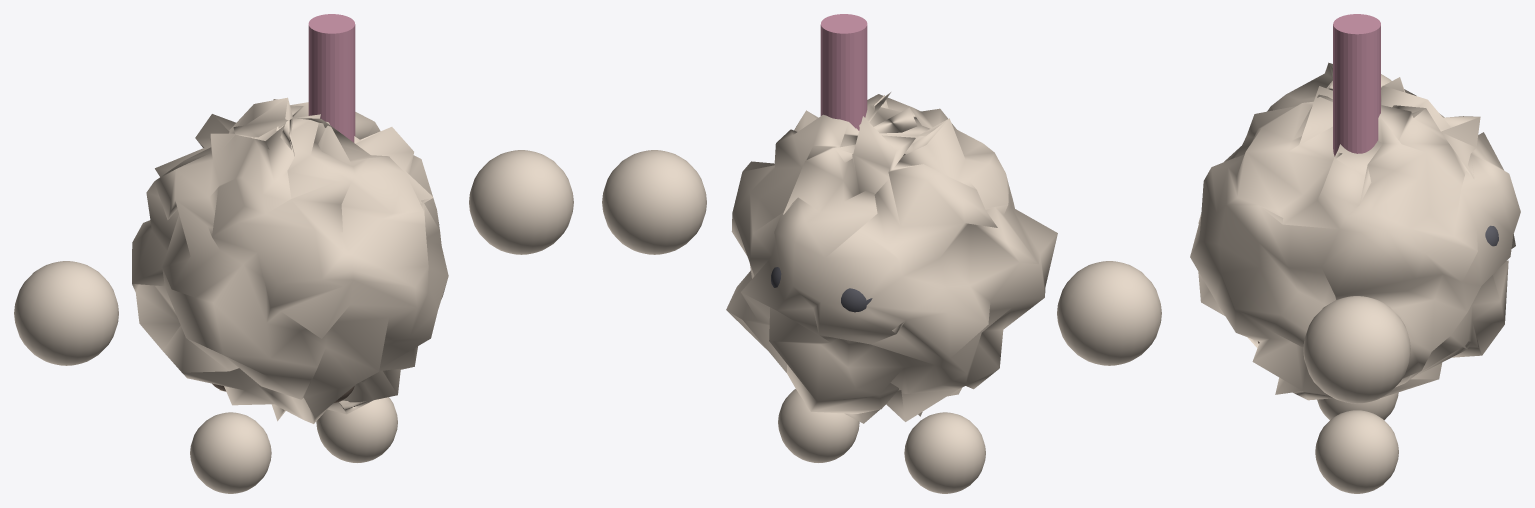
File: clay_bubble_tea.glb
The picture shows the model from 3 angles, left to right: view 1: azimuth 30°, elevation 25°; view 2: azimuth 150°, elevation 25°; view 3: azimuth 270°, elevation 25°; orthographic projection. The views are drawn at different scales.
Parts seen in each view (by area): view 1: leg.001; view 2: leg.001; view 3: leg.001.
Boxes of the visible parts, x1,y1,x2,y2 form: leg.001: [14, 14, 573, 493]; leg.001: [602, 14, 1161, 493]; leg.001: [1190, 14, 1520, 493].
Bounding box in the file's own units: 2.16 × 1.67 × 1.1.
